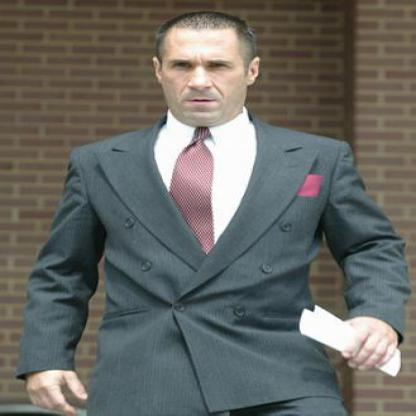face: (161, 13, 251, 127)
